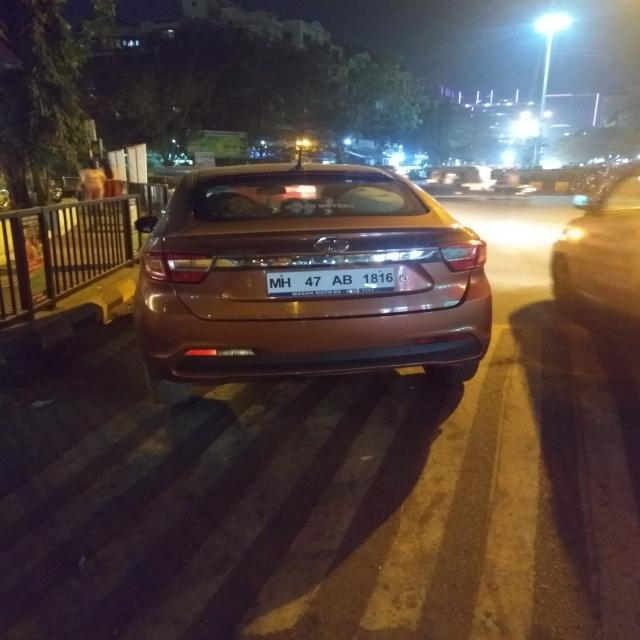Number-Plate: (269, 267, 403, 296)
